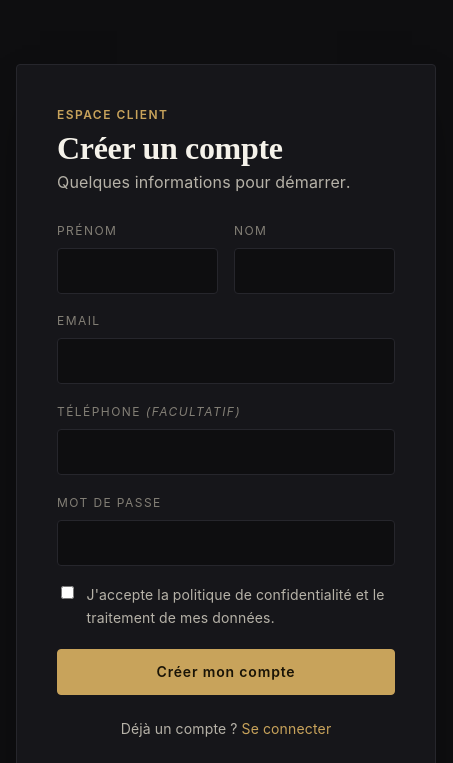
Test case: inscription.vue › requires RGPD consent before submitting
The width and height of the screenshot is (453, 763).
In the field labelled "Prénom": (138, 271) [57,248,218,294], type "Jean"
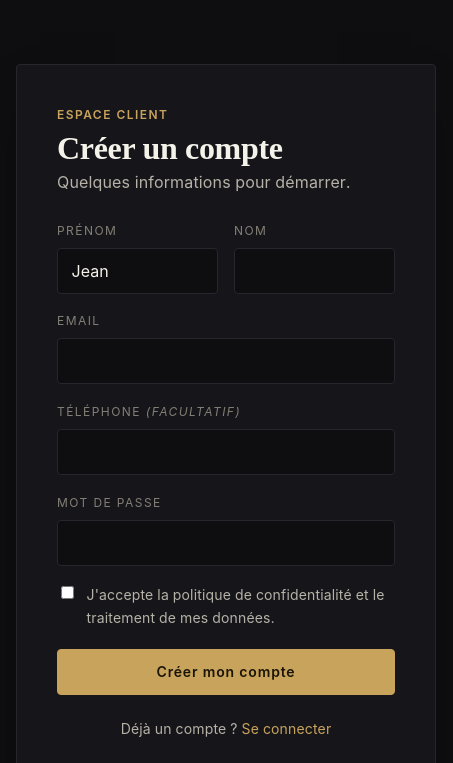
In the field labelled "Nom": (314, 271) [234,248,395,294], type "Dupont"
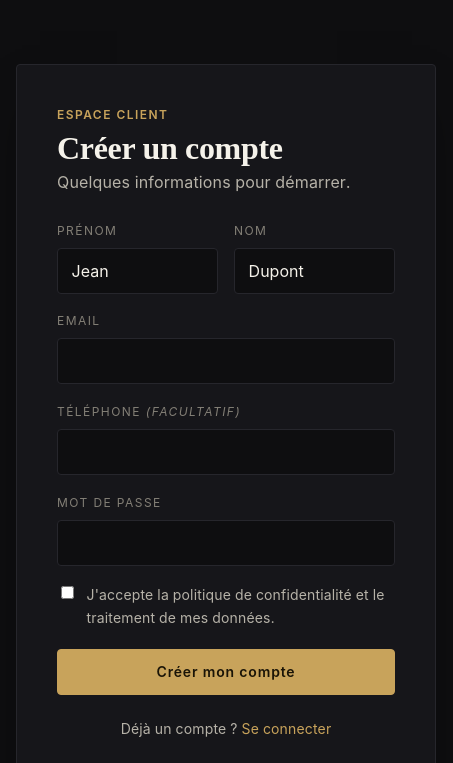
In the field labelled "Email": (226, 362) [57,338,395,384], type "buyer@example.com"
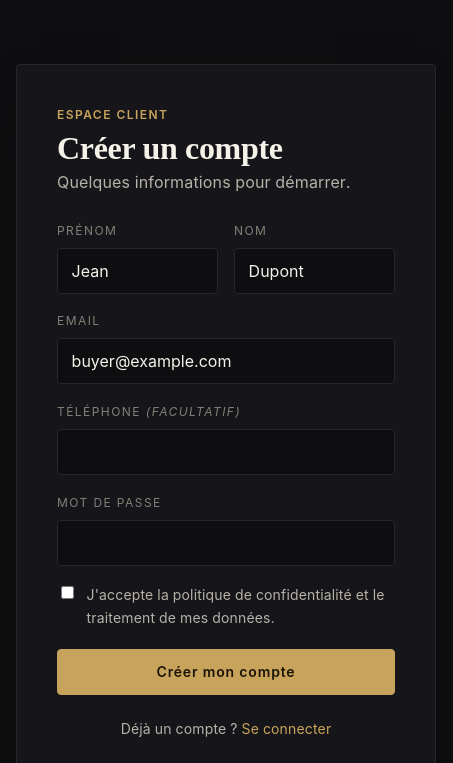
In the password field labelled "Mot de passe": (226, 543) [57,520,395,566], type "longenoughpassword"
(page scrolled)
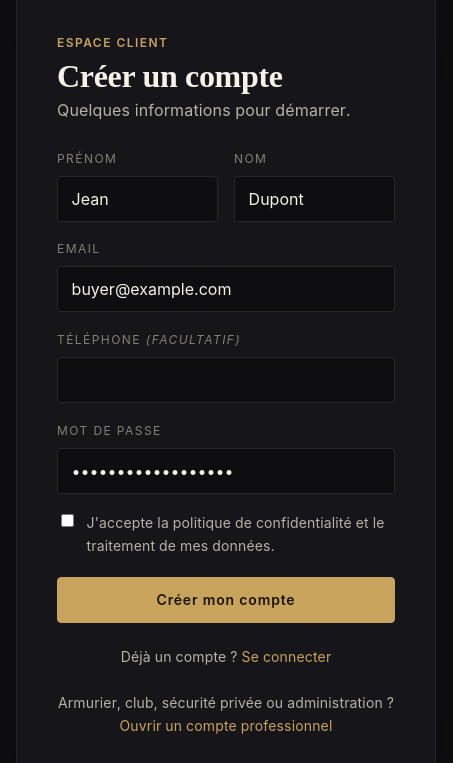
Submit the form
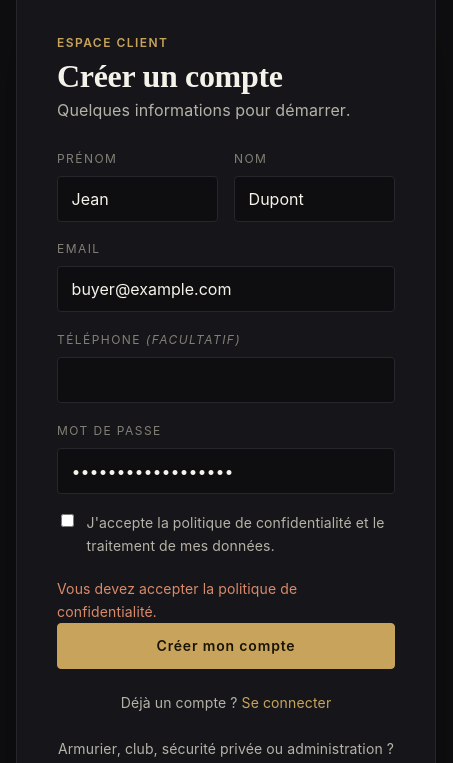
Now the text "Vous devez accepter la politique de confidentialité." is shown, box [57,580,297,620]
